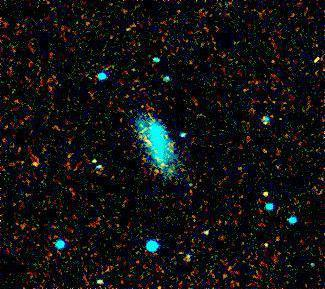star: (22, 148, 52, 178)
